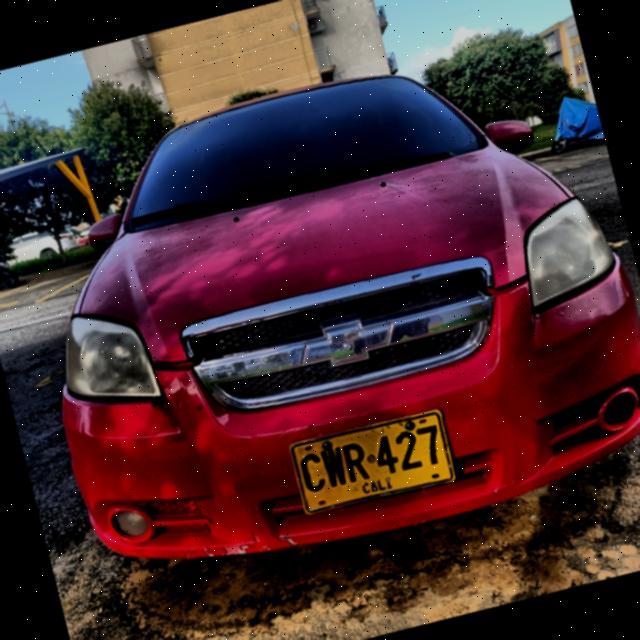plate: (290, 410, 454, 513)
